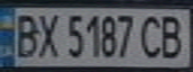1: (81, 11, 103, 58)
5: (63, 11, 84, 58)
7: (115, 11, 139, 60)
8: (100, 11, 121, 58)
B: (157, 11, 190, 60), (9, 10, 42, 58)
C: (136, 11, 166, 60)
X: (33, 10, 63, 60)
